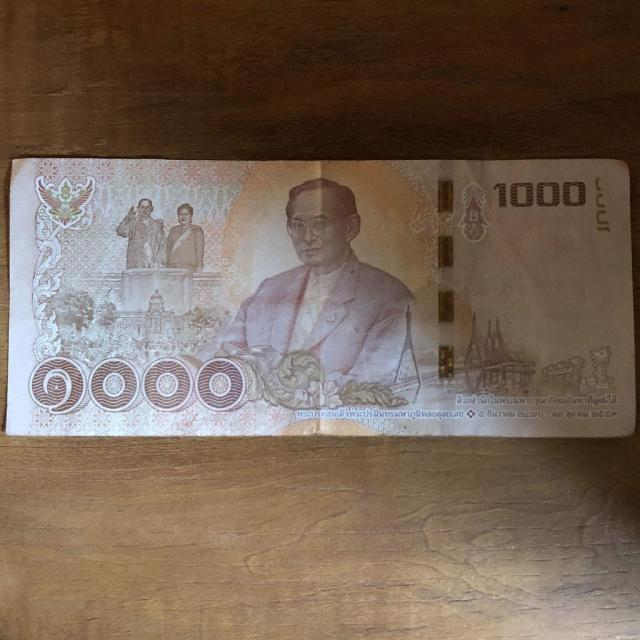THAI1000: (8, 159, 634, 437)
